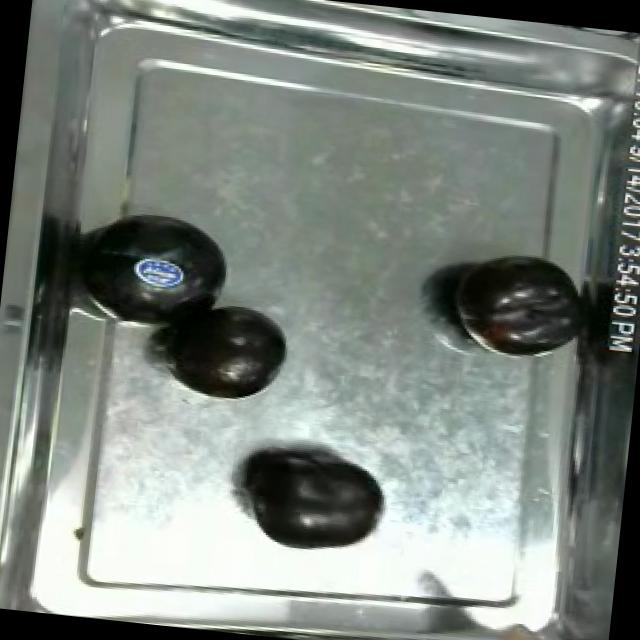Fruit: (78, 198, 242, 334), (434, 242, 594, 368), (232, 438, 391, 562), (160, 292, 296, 405), (474, 612, 609, 640)
